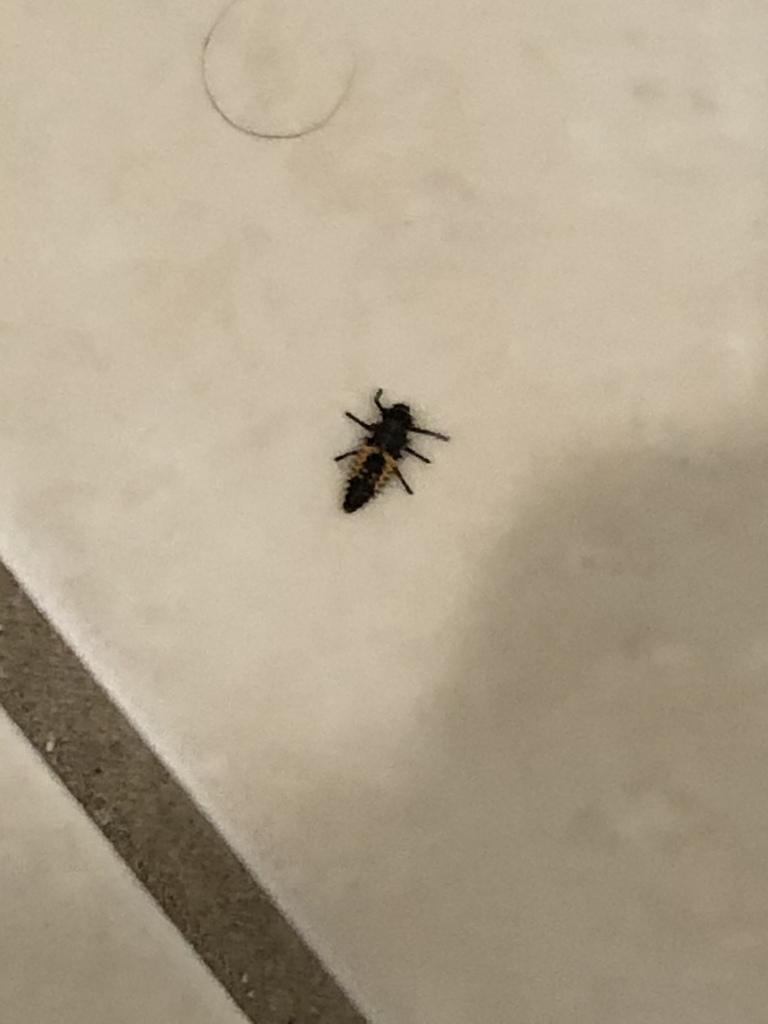ladybug: (336, 386, 456, 516)
